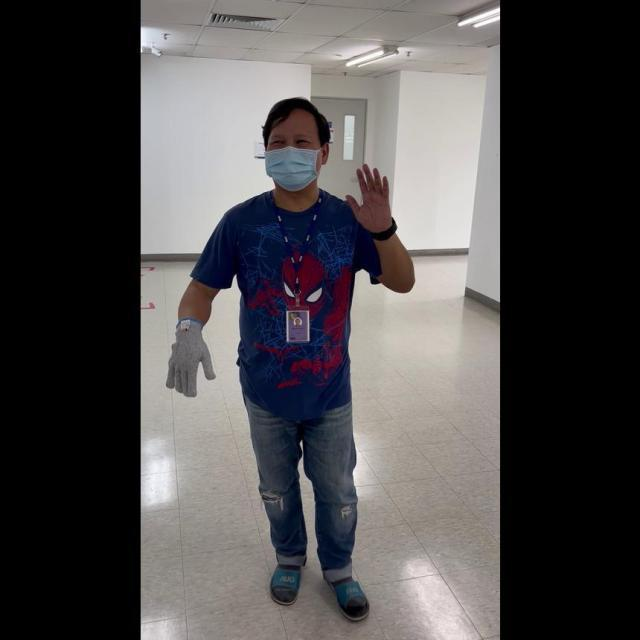bare_hand: (343, 159, 394, 233)
gloved_hand: (164, 316, 216, 396)
